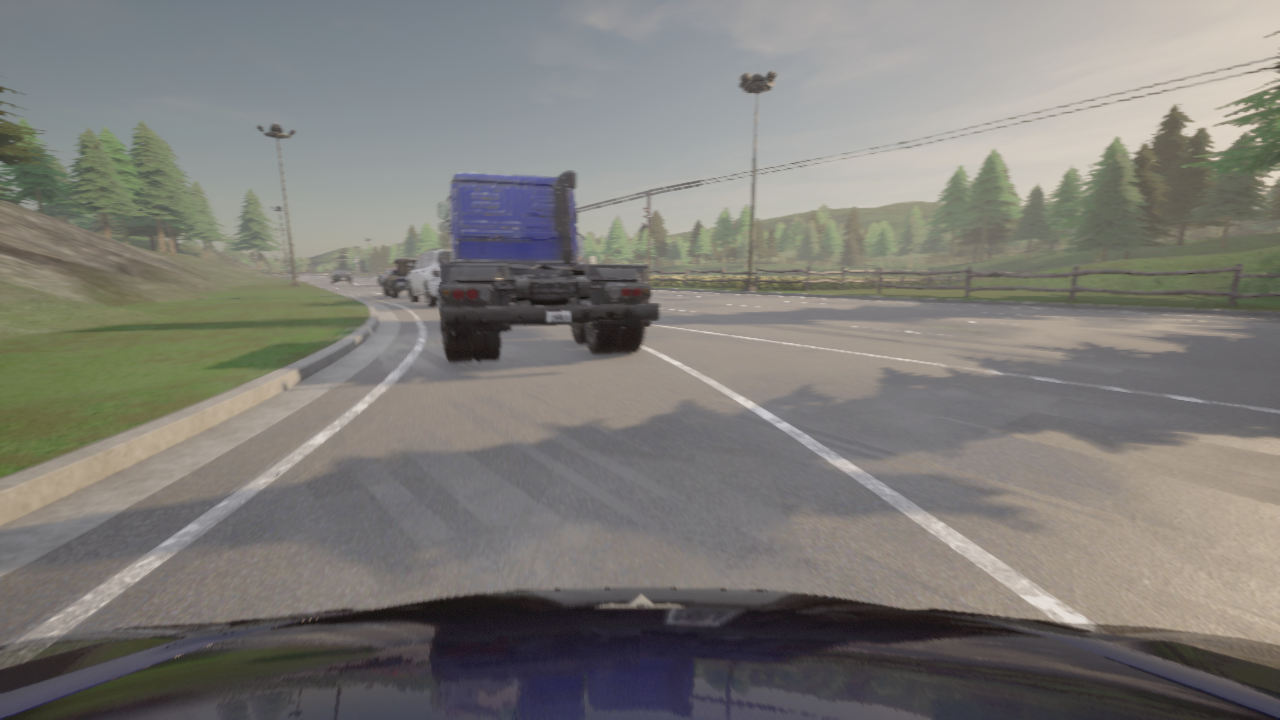cyclist: (0, 588, 1279, 719), (438, 171, 657, 361), (406, 249, 451, 307), (382, 259, 417, 299), (328, 269, 352, 284), (378, 270, 390, 284)
